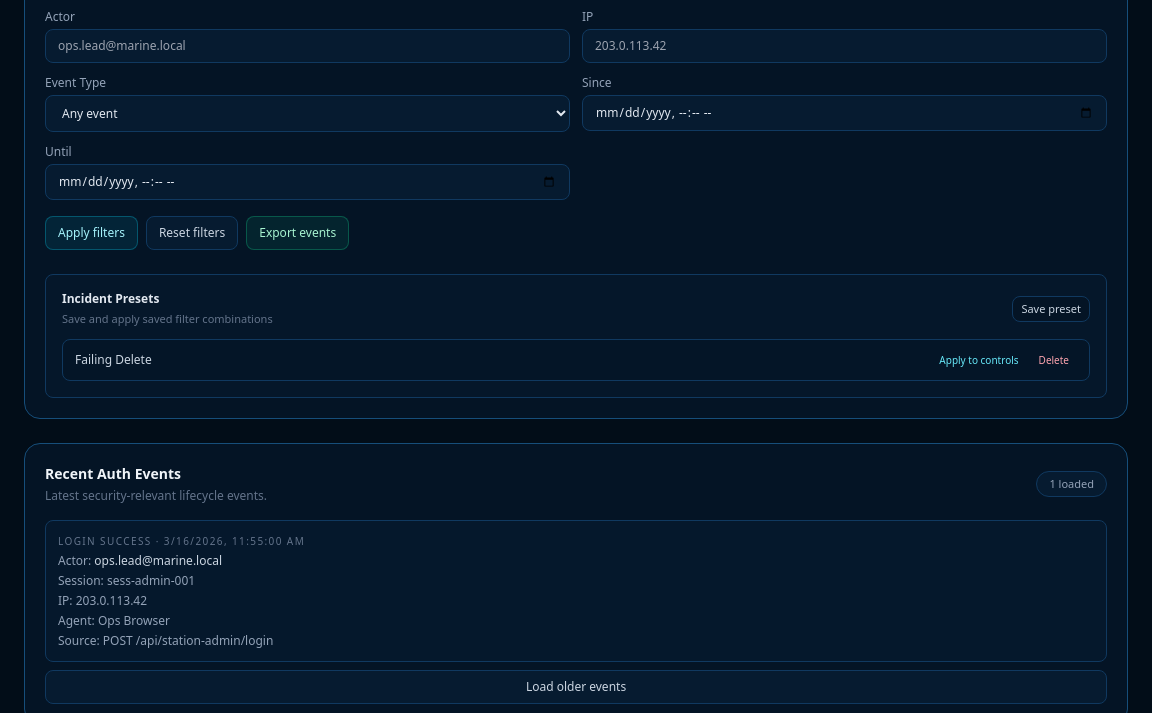
security console surfaces preset delete failure
This screenshot has width=1152, height=713.
(page scrolled)
What coordinates should you click on to do the following:
click the button "Delete"
I would click on:
 (1054, 360)
Its box is x1=1031 y1=348 x2=1077 y2=372.
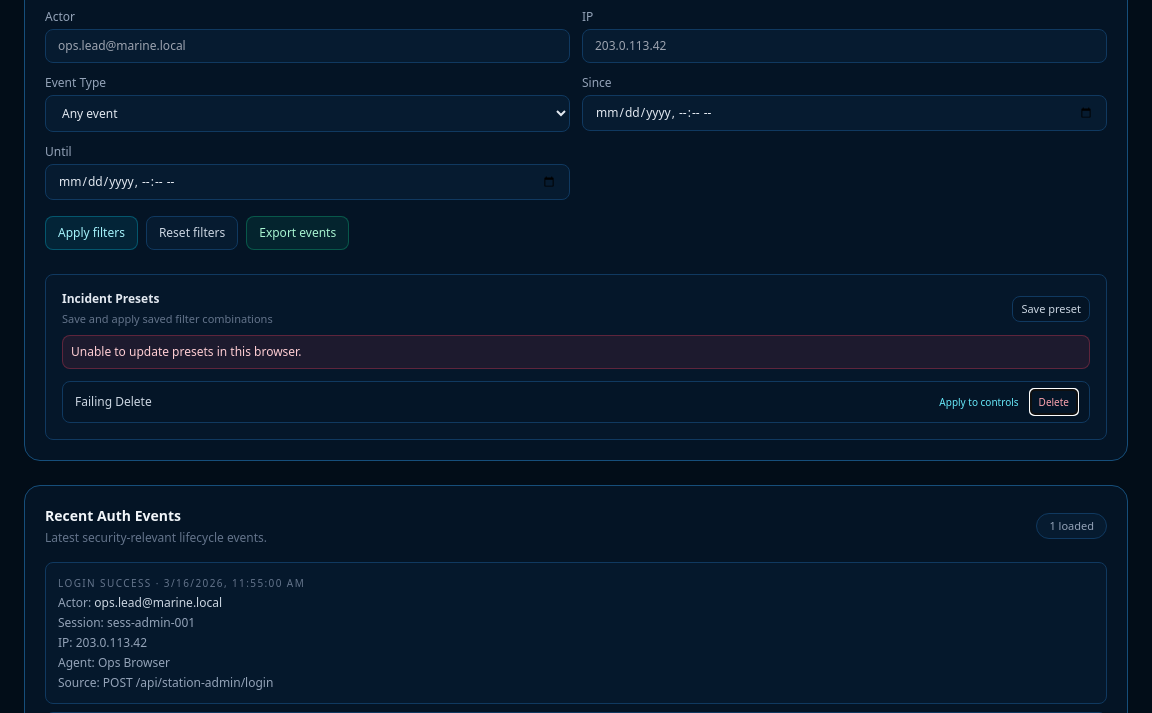
Expected: the text "Failing Delete" is shown, x1=75 y1=394 x2=152 y2=410
Expected: the text "Unable to update presets in this browser." is shown, x1=62 y1=335 x2=1090 y2=369
